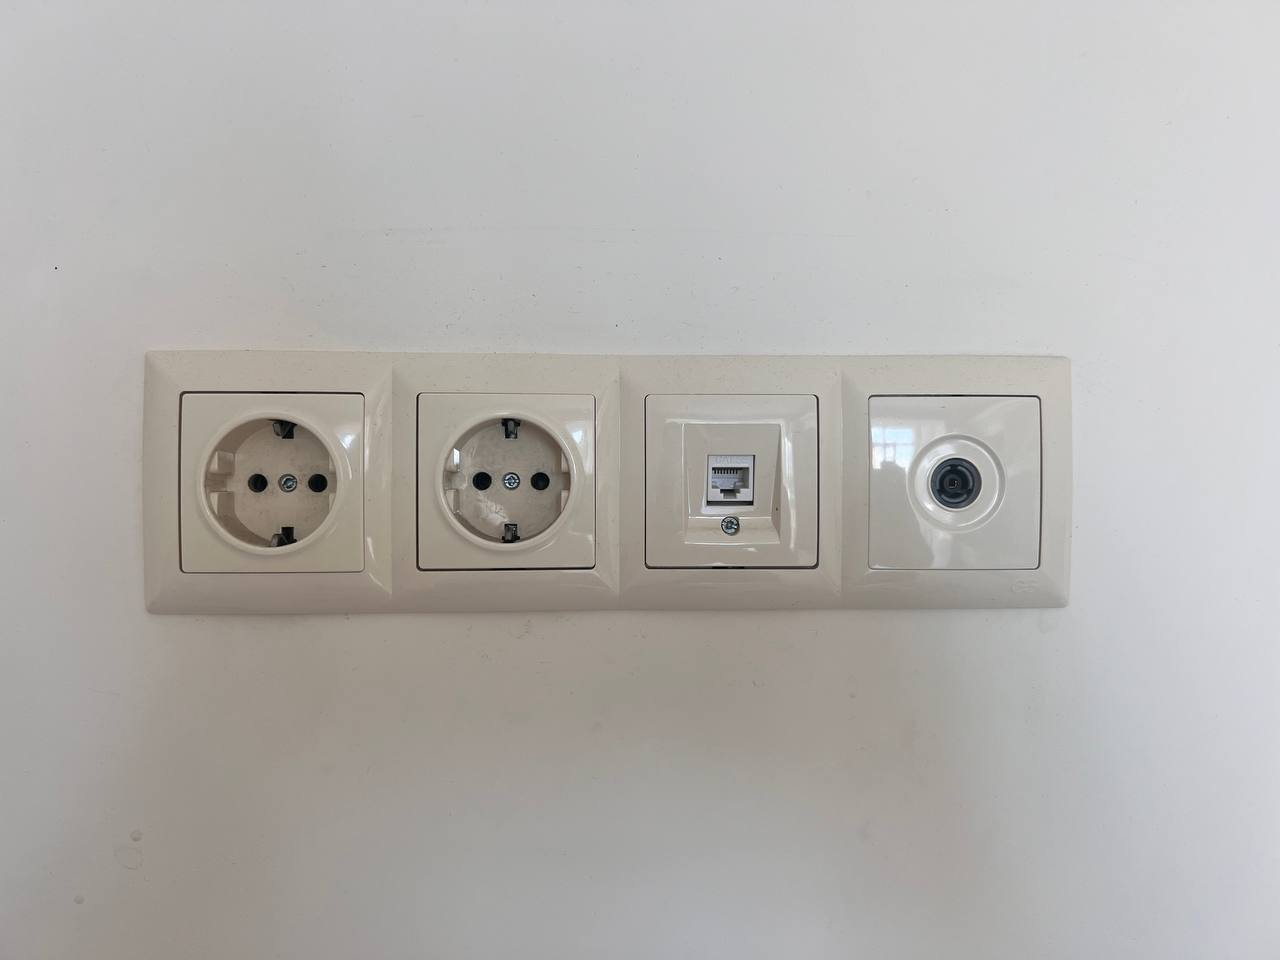Network Outlet: (627, 362, 841, 606)
Power Outlet: (140, 357, 384, 615), (395, 360, 622, 610)
TV Socket: (850, 360, 1073, 607)
